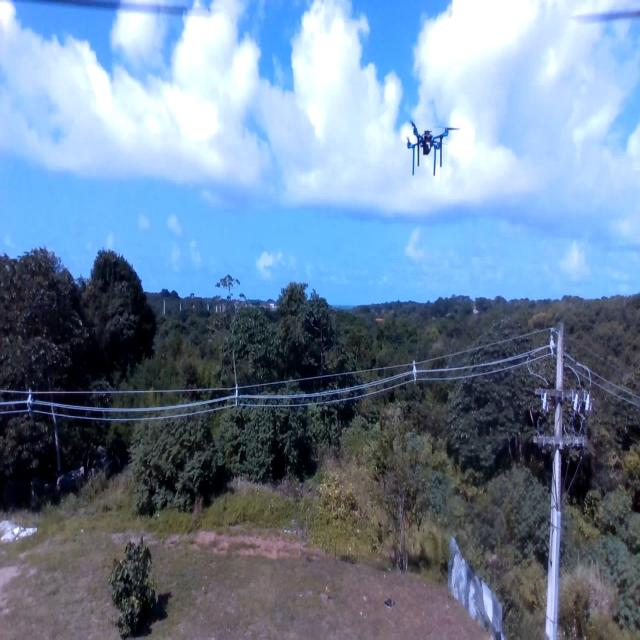-uav-: (399, 111, 466, 190)
